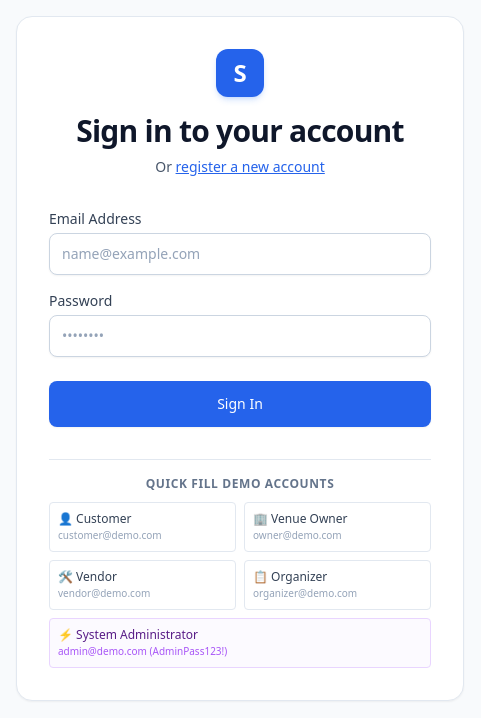
Test: Auth Pages & Validation › populates demo credentials upon clicking quick login buttons
Click the button "👤 Customer customer@demo.com".
click(142, 527)  # box [49,502,236,552]
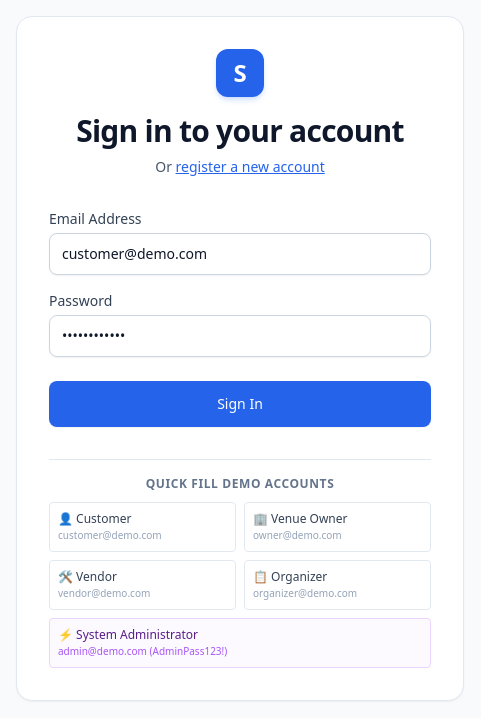
Expected: the field labelled "Email Address" holds "customer@demo.com", [49,233,431,275]
Expected: the password field labelled "Password" holds "Password123!", [49,315,431,357]
